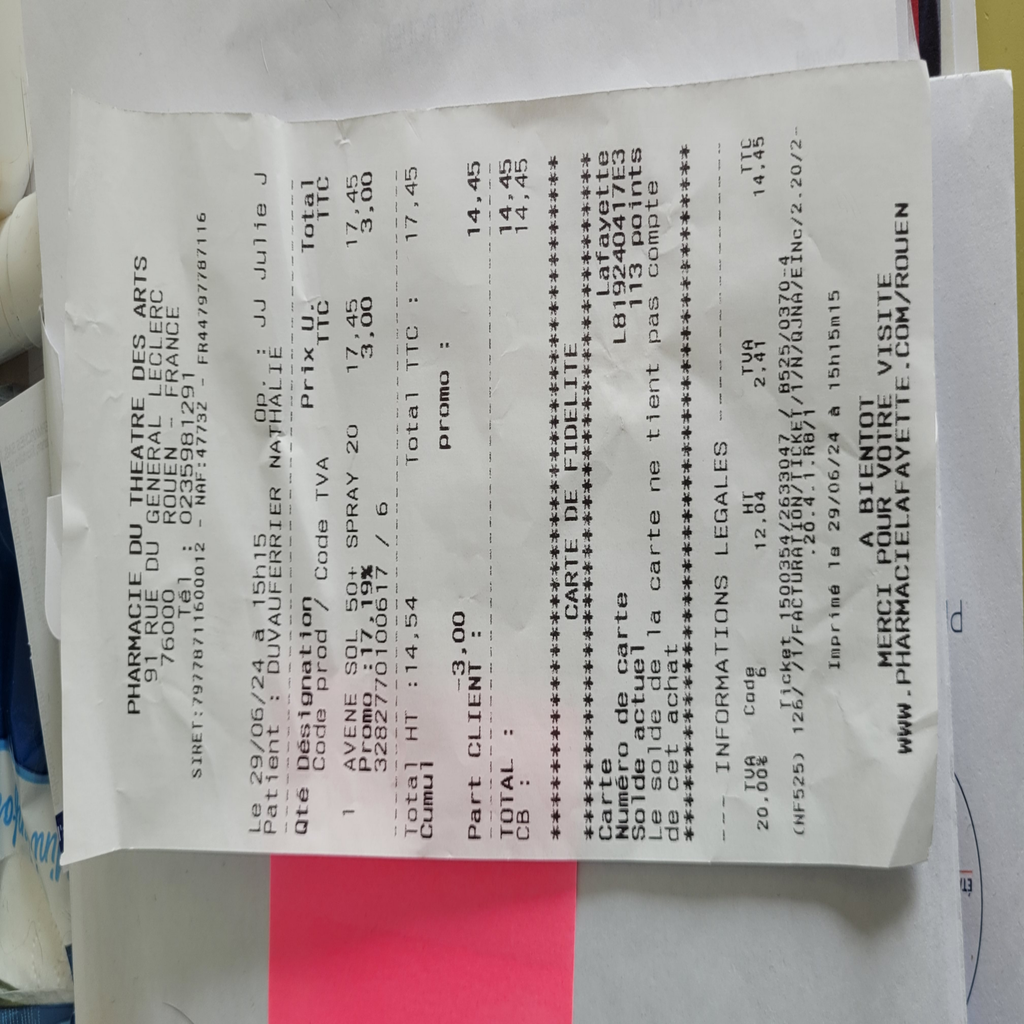recipt: (61, 59, 932, 869)
